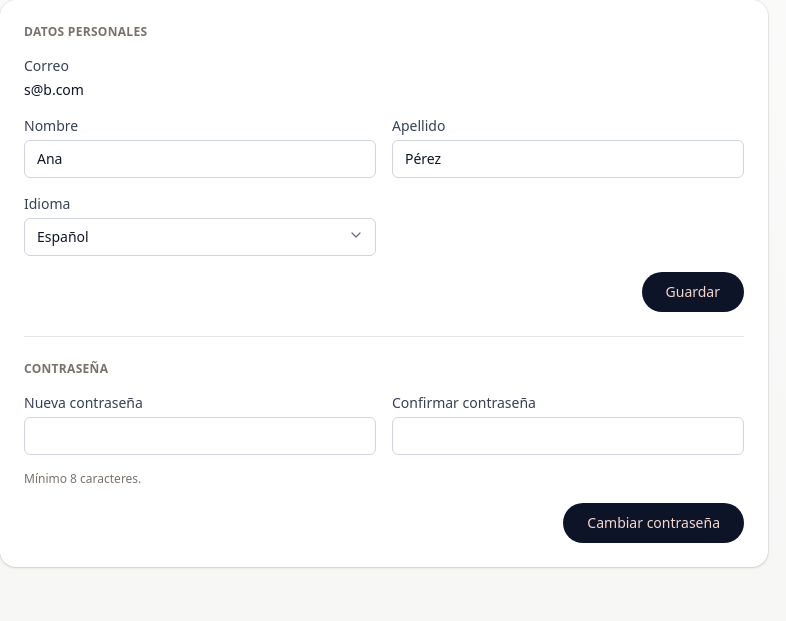
Test: ProfileSection › saves the preferred language and switches to it
Expected: the field labelled "Nombre" is shown, [24, 140, 376, 178]
Select "English" in the dropdown labelled "Idioma" at (200,237), box [24, 218, 376, 256]
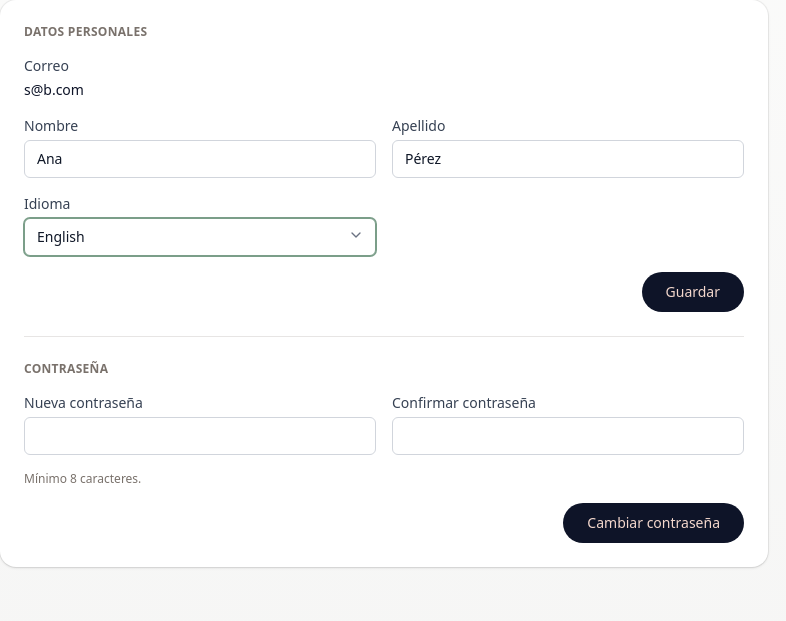
Click the button "Guardar" at (693,292), box [642, 272, 744, 312]
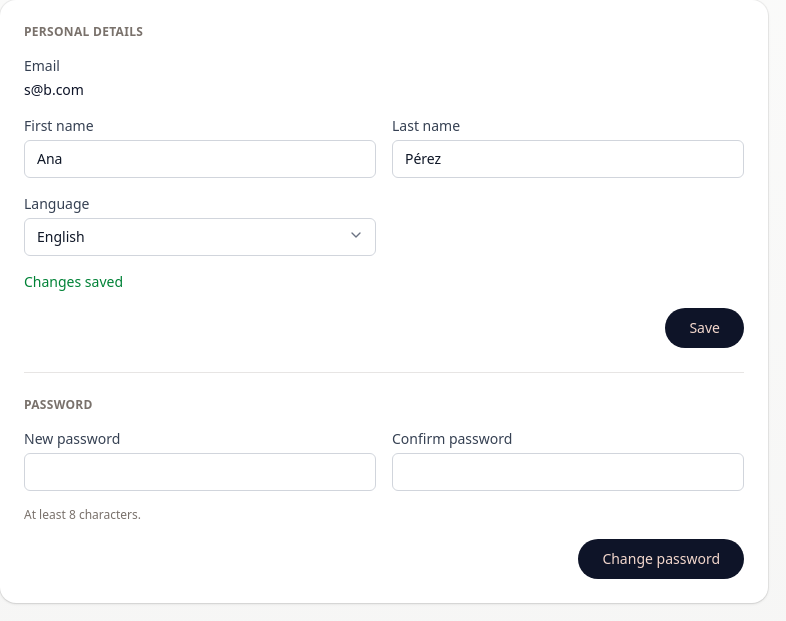
Result: the message reads "Changes saved" at [24, 272, 123, 291]
